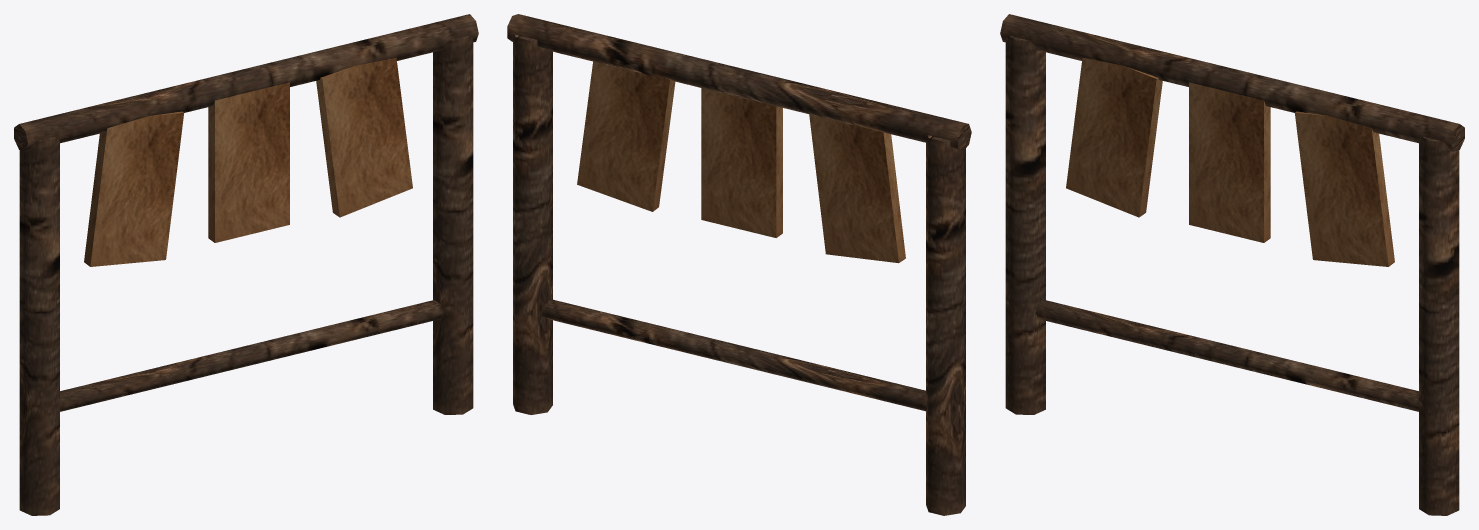
Rendered from rack.glb.
The picture shows the model from 3 angles, left to right: view 1: azimuth 30°, elevation 25°; view 2: azimuth 150°, elevation 25°; view 3: azimuth 330°, elevation 25°; orthographic projection.
Parts seen in each view (by area): view 1: part_0, part_1; view 2: part_0, part_1; view 3: part_0, part_1.
Boxes of the visible parts, <box> form: part_0: <box>14,14,478,515</box>; part_1: <box>84,57,412,266</box>; part_0: <box>507,14,971,515</box>; part_1: <box>577,61,905,263</box>; part_0: <box>1000,14,1464,515</box>; part_1: <box>1066,57,1394,266</box>.
Size of the model in its own units: 1.21 by 0.9931 by 0.0912.
2 materials, 2 textured.
